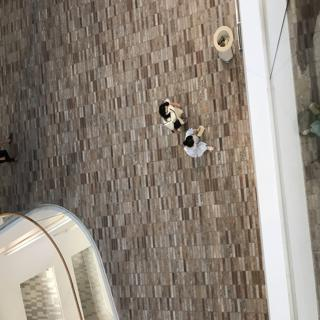person: (183, 125, 223, 163), (156, 96, 186, 126)
